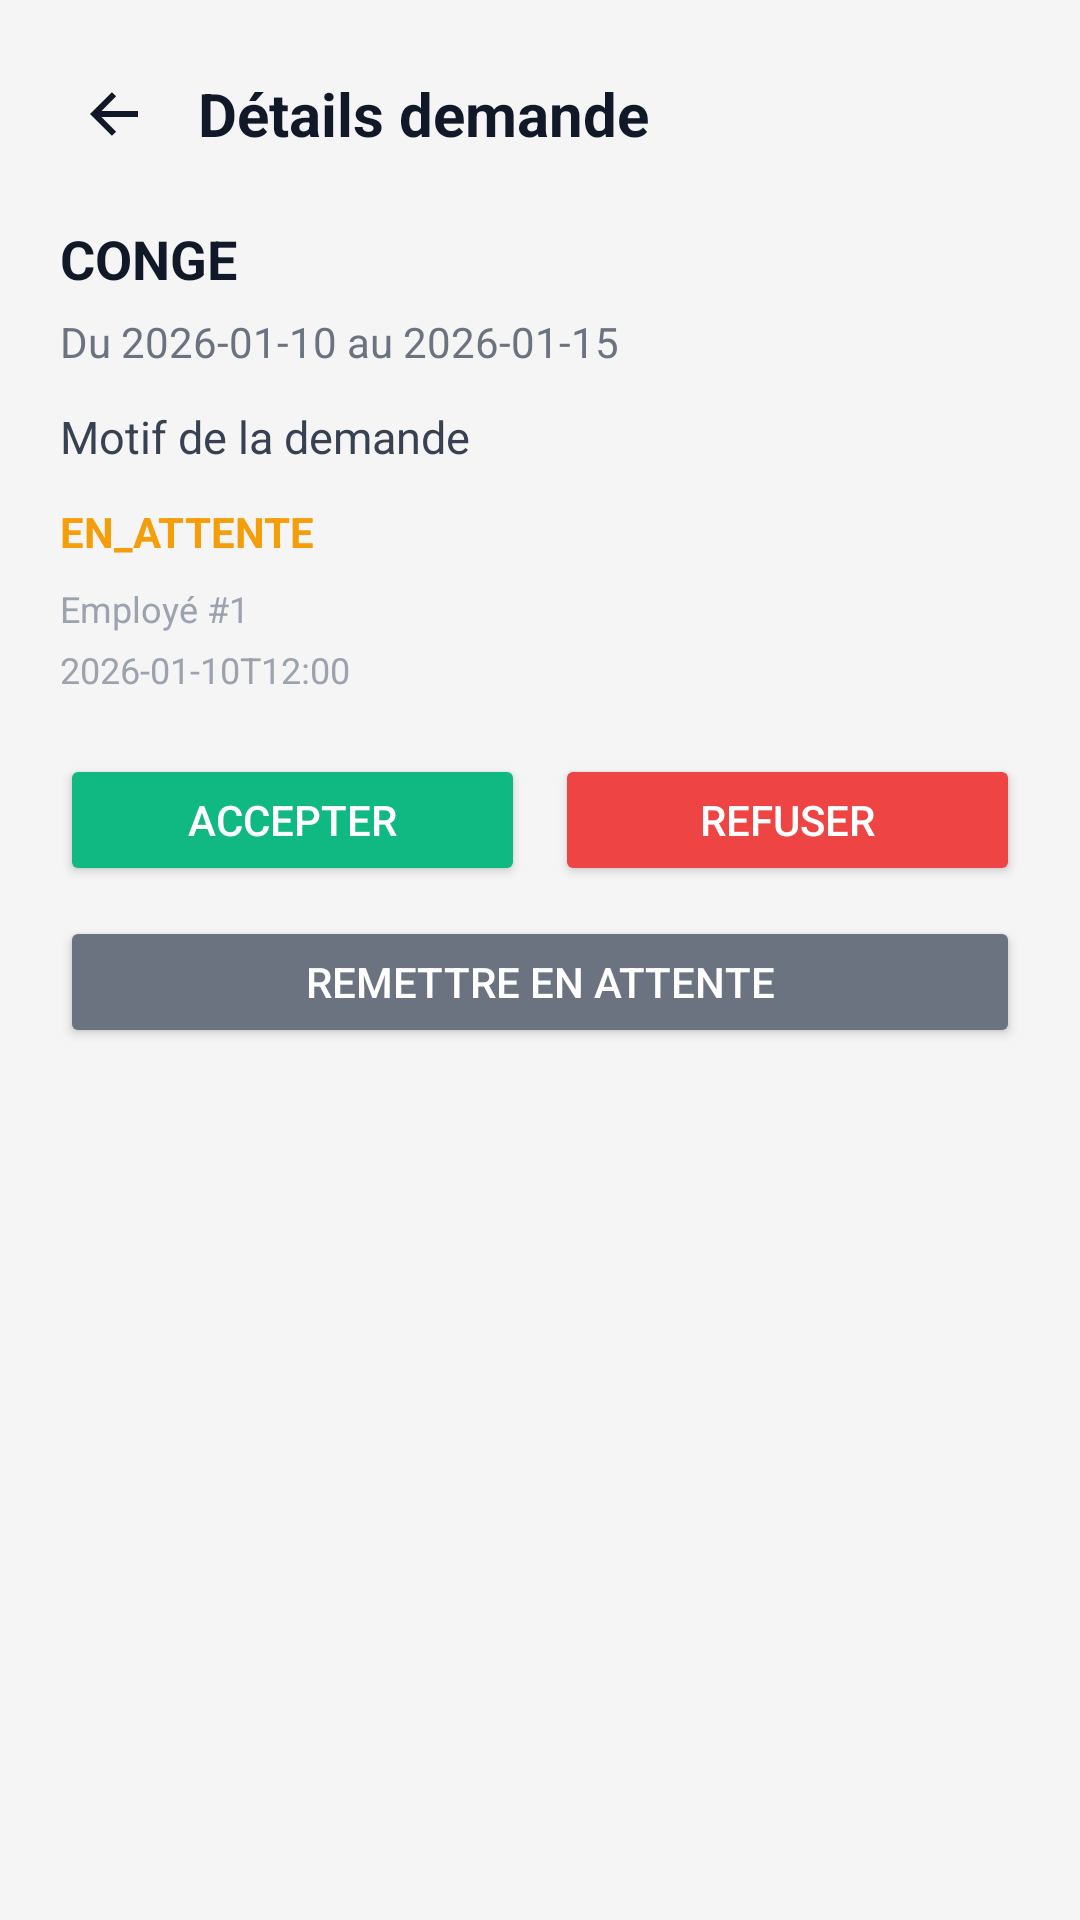

Icon bounding boxes for this 1080w x 1920h phone screenshot, format (x1, y1, x2, y2):
Retour: (90, 92, 138, 136)
